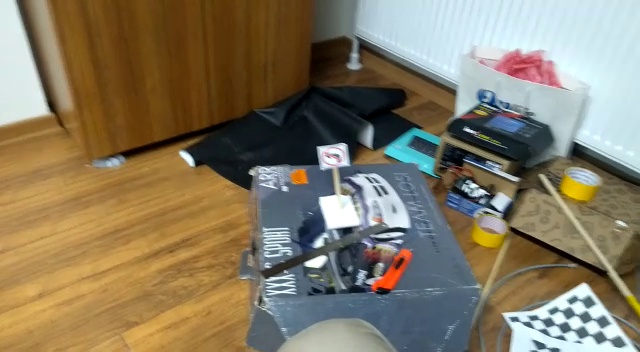sola_donulmez: (319, 144, 351, 167)
